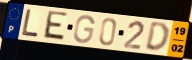0: (98, 17, 118, 47)
2: (122, 20, 146, 52)
D: (143, 22, 170, 54)
E: (41, 9, 69, 43)
G: (72, 14, 96, 44)
L: (21, 8, 40, 38)
